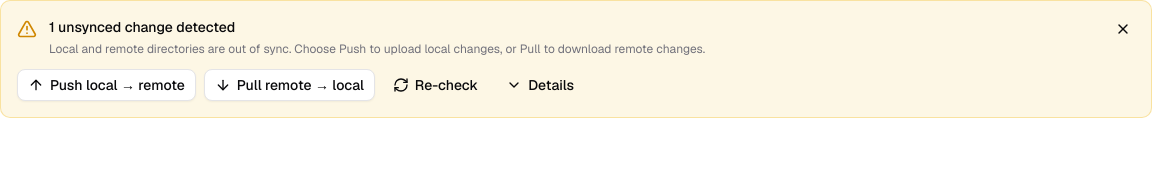
PendingChangesBanner › re-check asks the backend again for the expanded details
Click the button "Details": (540, 85) [496,69,584,101]
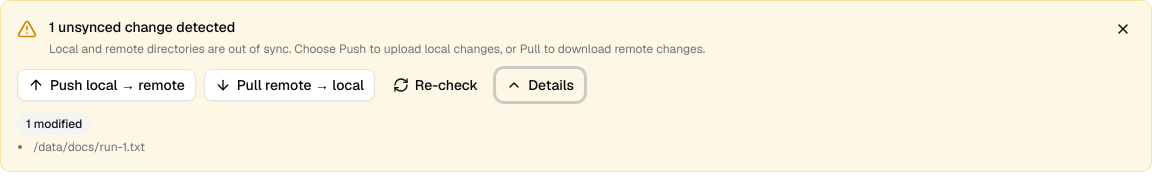
expect the text "/data/docs/run-1.txt" is shown: met, box [33,139,145,155]
Click the button "Re-check": (436, 85) [383,69,488,101]
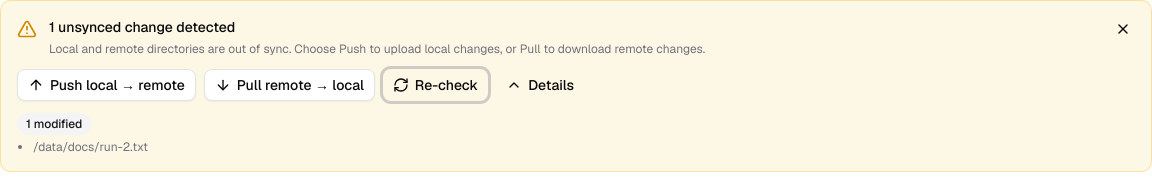
expect the text "/data/docs/run-2.txt" is shown: met, box [33,139,148,155]
